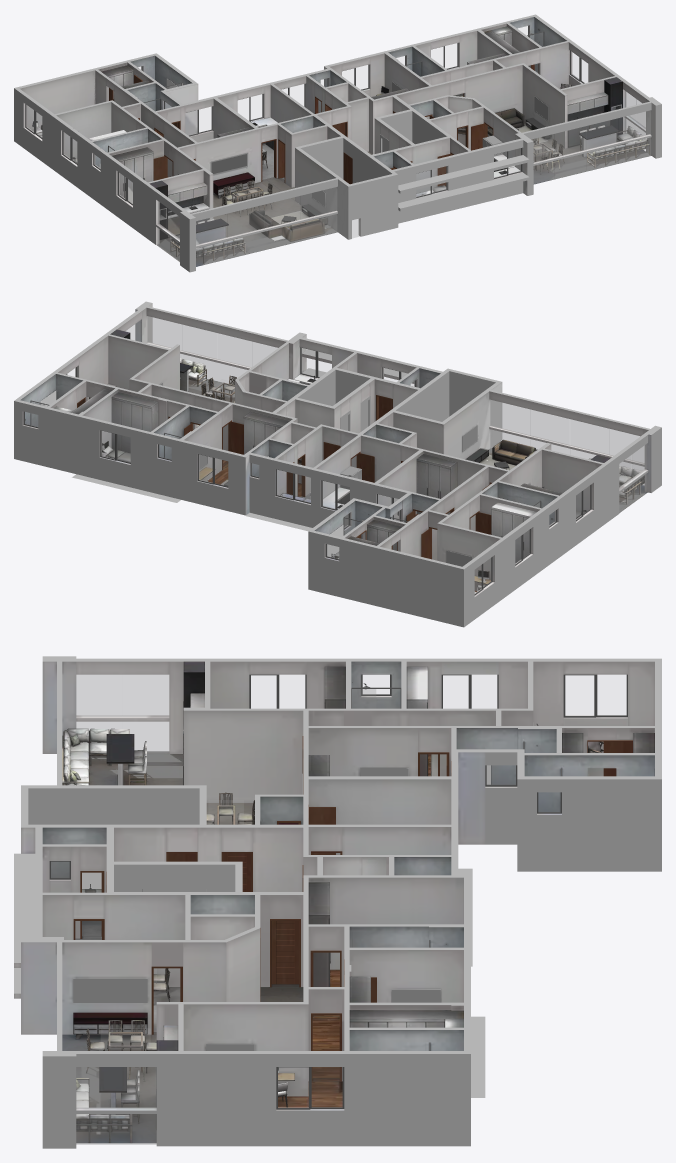
File: building-lite.glb
The picture shows the model from 3 angles, top to bottom: view 1: azimuth 30°, elevation 25°; view 2: azimuth 150°, elevation 25°; view 3: azimuth 270°, elevation 25°; orthographic projection. The views are drawn at different scales.
Visible parts, largest first — view 1: Layer:P06_Material #2146796778_0, shower001_shower_0, Box114_Material #2146779858_0, ee93_Material #2146796780_0, Object173_Material #2146796782_0, Object125_Material #2146796781_0, Plane013_Material #2146796784_0, PivotDoor032_Material #2146779927_0, Object179_Material #2146796779_0; view 2: shower001_shower_0, Layer:P06_Material #2146796778_0, Box114_Material #2146779858_0, Object125_Material #2146796781_0, ee93_Material #2146796780_0, Object173_Material #2146796782_0, PivotDoor032_Material #2146779927_0, Plane013_Material #2146796784_0, Object179_Material #2146796779_0; view 3: Layer:P06_Material #2146796778_0, shower001_shower_0, Object125_Material #2146796781_0, Box114_Material #2146779858_0, Object173_Material #2146796782_0, ee93_Material #2146796780_0, Plane013_Material #2146796784_0, PivotDoor032_Material #2146779927_0, Plane004_Material #2146796783_0, Object179_Material #2146796779_0, Plane017_Material #2146796785_0.
Part boxes in pixels (bbox=[...]): Layer:P06_Material #2146796778_0: bbox=[20, 23, 655, 246]; shower001_shower_0: bbox=[14, 14, 661, 272]; Box114_Material #2146779858_0: bbox=[144, 32, 650, 265]; ee93_Material #2146796780_0: bbox=[32, 65, 327, 263]; Object173_Material #2146796782_0: bbox=[371, 26, 649, 196]; Object125_Material #2146796781_0: bbox=[93, 17, 566, 168]; Plane013_Material #2146796784_0: bbox=[157, 119, 651, 266]; PivotDoor032_Material #2146779927_0: bbox=[109, 63, 538, 186]; Object179_Material #2146796779_0: bbox=[56, 31, 509, 159]; shower001_shower_0: bbox=[14, 301, 661, 627]; Layer:P06_Material #2146796778_0: bbox=[22, 303, 651, 596]; Box114_Material #2146779858_0: bbox=[31, 316, 646, 534]; Object125_Material #2146796781_0: bbox=[20, 368, 557, 538]; ee93_Material #2146796780_0: bbox=[280, 439, 644, 592]; Object173_Material #2146796782_0: bbox=[54, 329, 317, 486]; PivotDoor032_Material #2146779927_0: bbox=[77, 395, 491, 559]; Plane013_Material #2146796784_0: bbox=[188, 377, 647, 512]; Object179_Material #2146796779_0: bbox=[82, 389, 294, 462]; Layer:P06_Material #2146796778_0: bbox=[14, 661, 654, 1110]; shower001_shower_0: bbox=[14, 656, 661, 1148]; Object125_Material #2146796781_0: bbox=[42, 661, 654, 1050]; Box114_Material #2146779858_0: bbox=[76, 675, 376, 1144]; Object173_Material #2146796782_0: bbox=[73, 882, 463, 1142]; ee93_Material #2146796780_0: bbox=[62, 661, 654, 824]; Plane013_Material #2146796784_0: bbox=[62, 751, 303, 1143]; PivotDoor032_Material #2146779927_0: bbox=[73, 736, 632, 1092]; Plane004_Material #2146796783_0: bbox=[278, 754, 431, 1107]; Object179_Material #2146796779_0: bbox=[362, 661, 627, 875]; Plane017_Material #2146796785_0: bbox=[75, 921, 180, 1032].
Size of the model in its own units: 26500 by 2852 by 18150.
12 materials, 12 textured.
